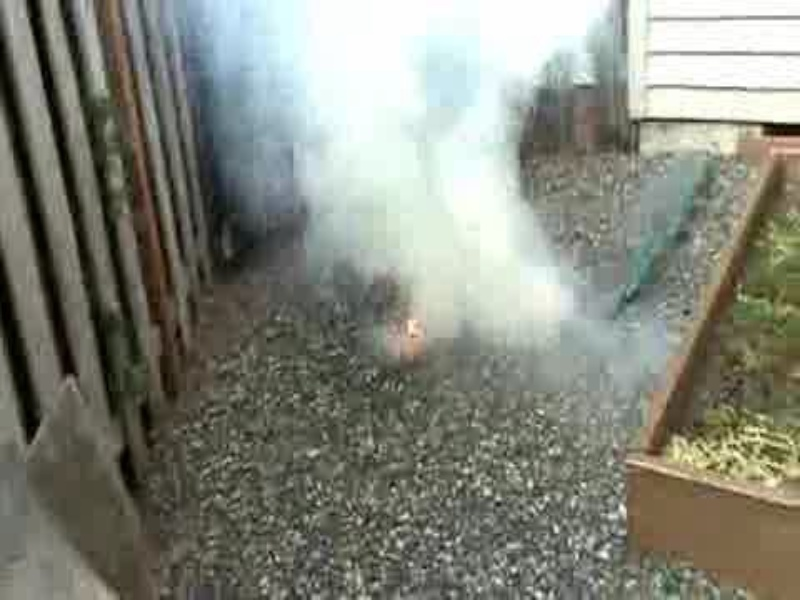smoke: (250, 1, 562, 344)
